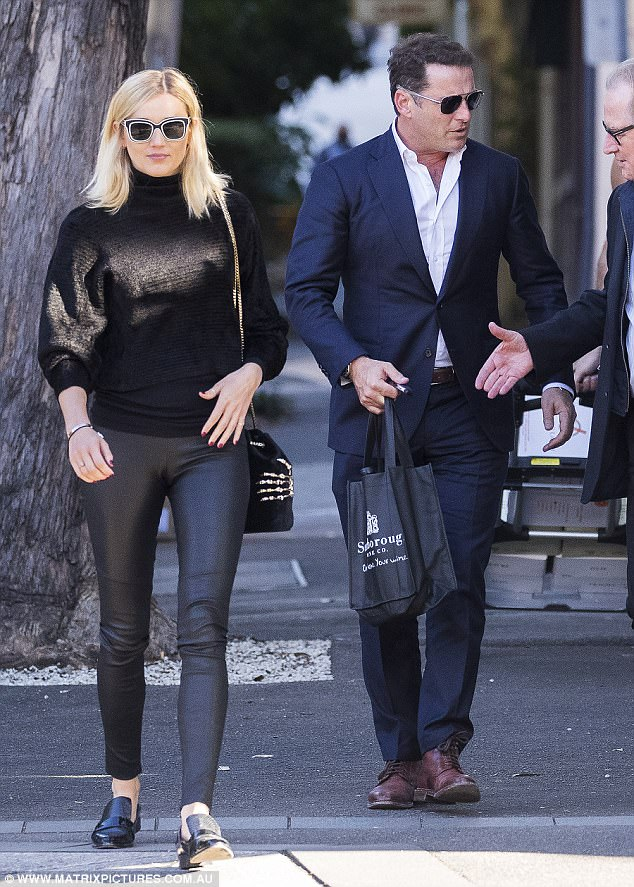Person: (284, 35, 574, 808), (36, 69, 287, 870), (563, 55, 634, 418)
